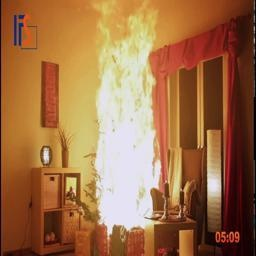fire: (69, 0, 182, 242)
